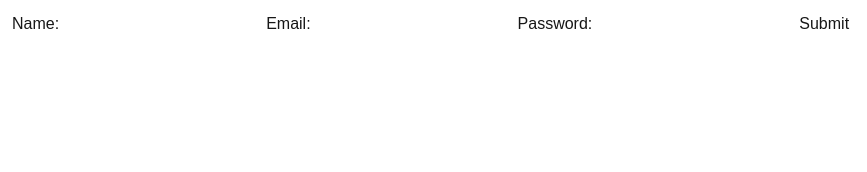
Test: RegistrationForm › shows error when fields are empty on submit
The image size is (867, 172).
Note: Submit the form without filling out any fields
Click the button with test id "submit-button" at (824, 24), box top-left (799, 12), bottom-right (849, 36)
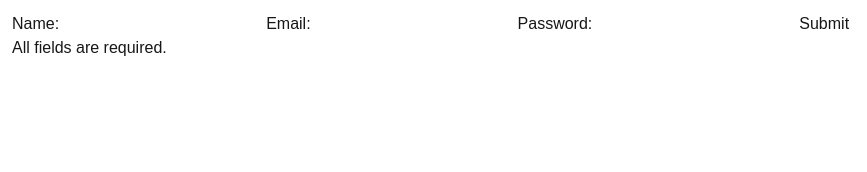
Check: the text with test id "error-message" reads "All fields are required.", box top-left (12, 39), bottom-right (167, 56)
